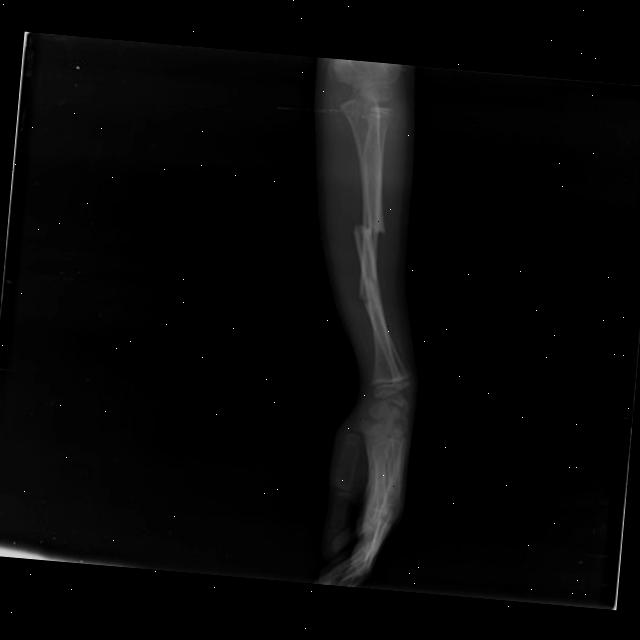Fracture: (348, 219, 389, 235), (360, 268, 382, 287), (355, 292, 377, 307)
